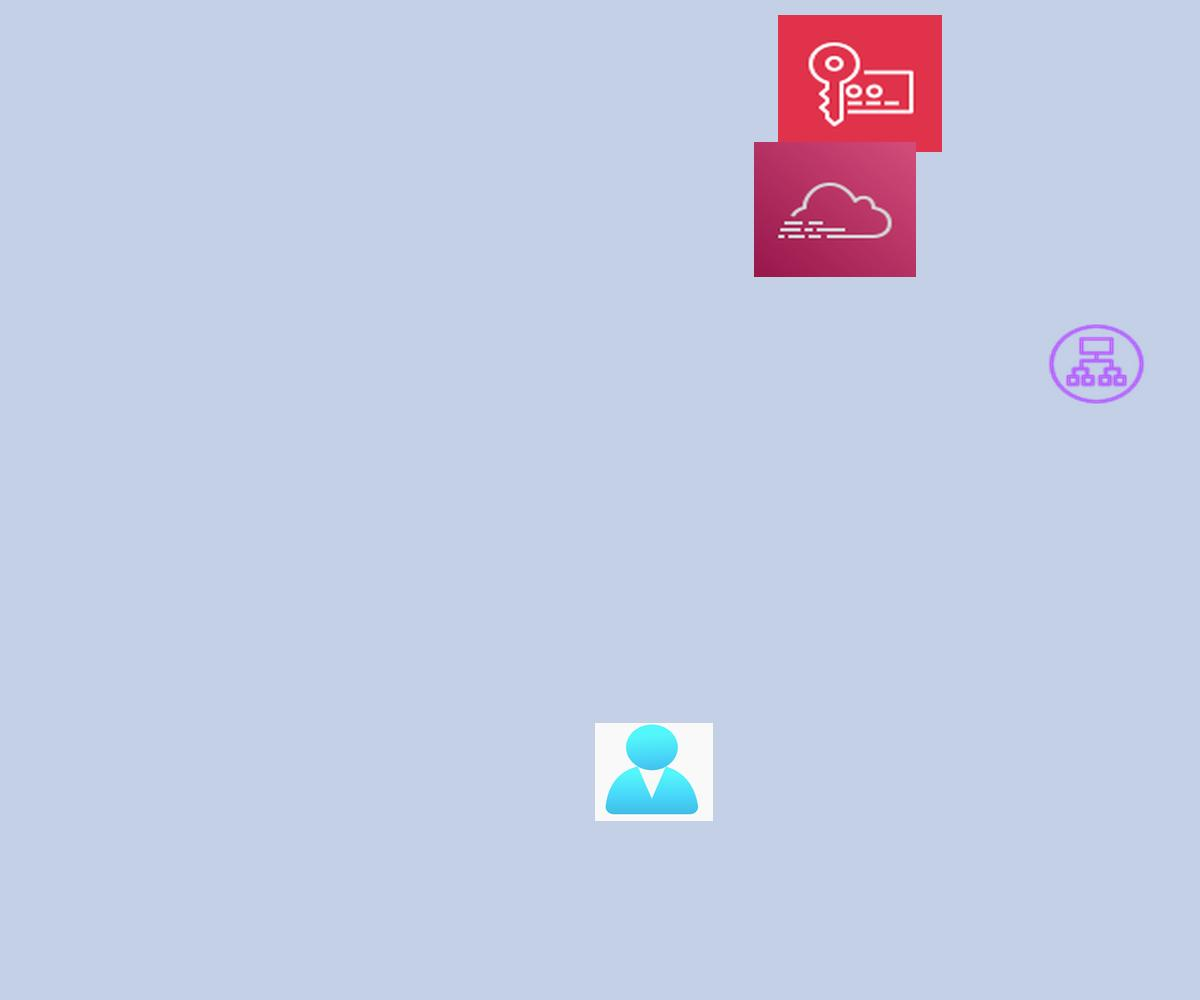AWS-CloudTrail: (754, 142, 916, 277)
AWS-Key-Management-Service: (778, 15, 942, 152)
AWS-Res_Elastic-Load-Balancing_Application-Load-Balancer: (1045, 321, 1148, 407)
Azure_users: (595, 723, 713, 821)
